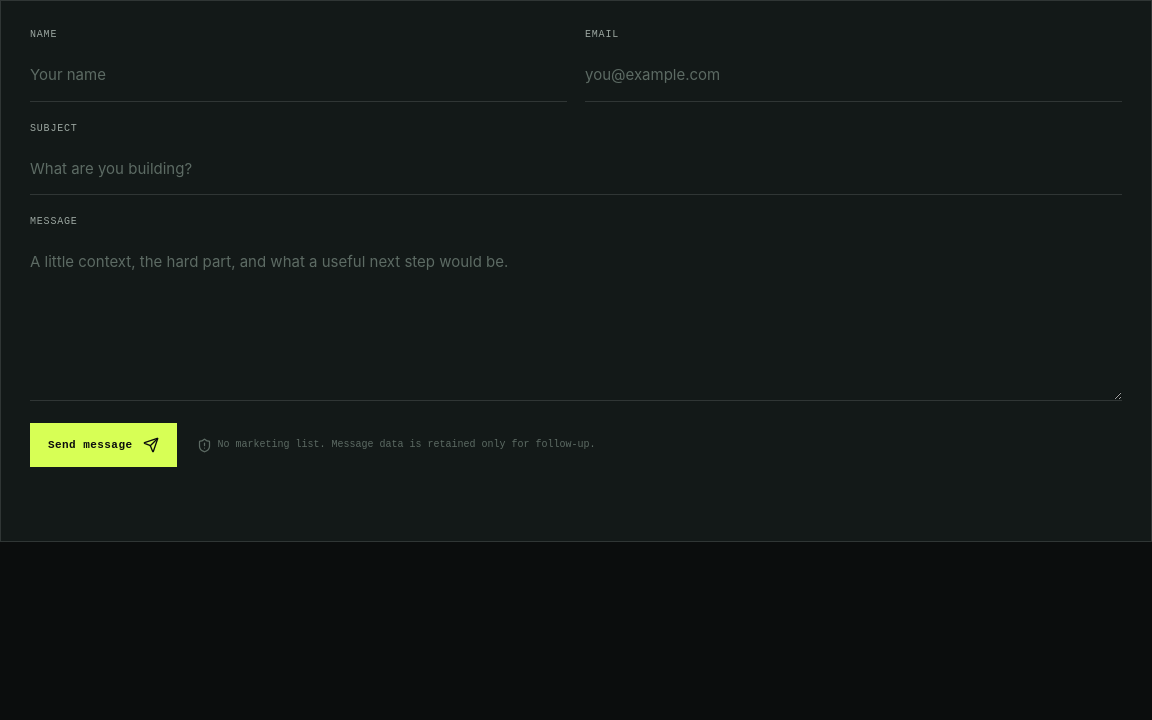
Test: contact form › shows accessible client-side validation
What coordinates should you click on to do the following:
click the button "Send message"
I would click on:
 (103, 445)
Its box is [30, 423, 176, 467].
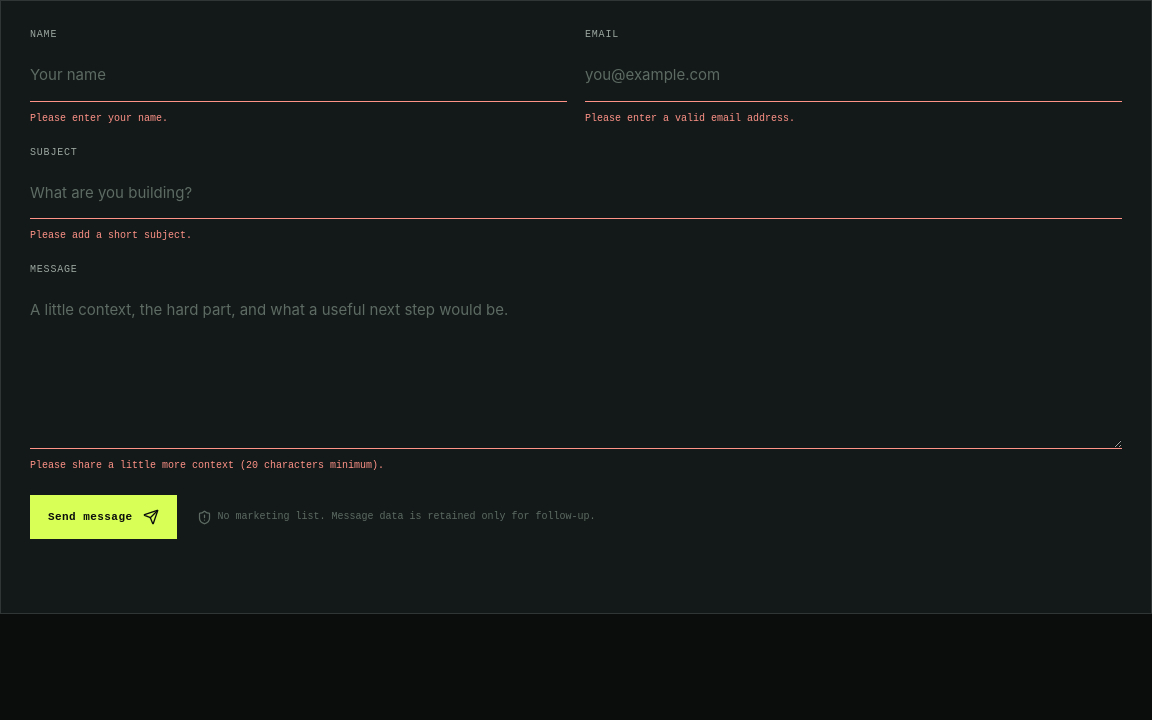
Check: the text "Please enter your name." is shown, box [30, 112, 168, 124]
Check: the text "Please share a little more context (20 characters minimum)." is shown, box [30, 460, 384, 471]
